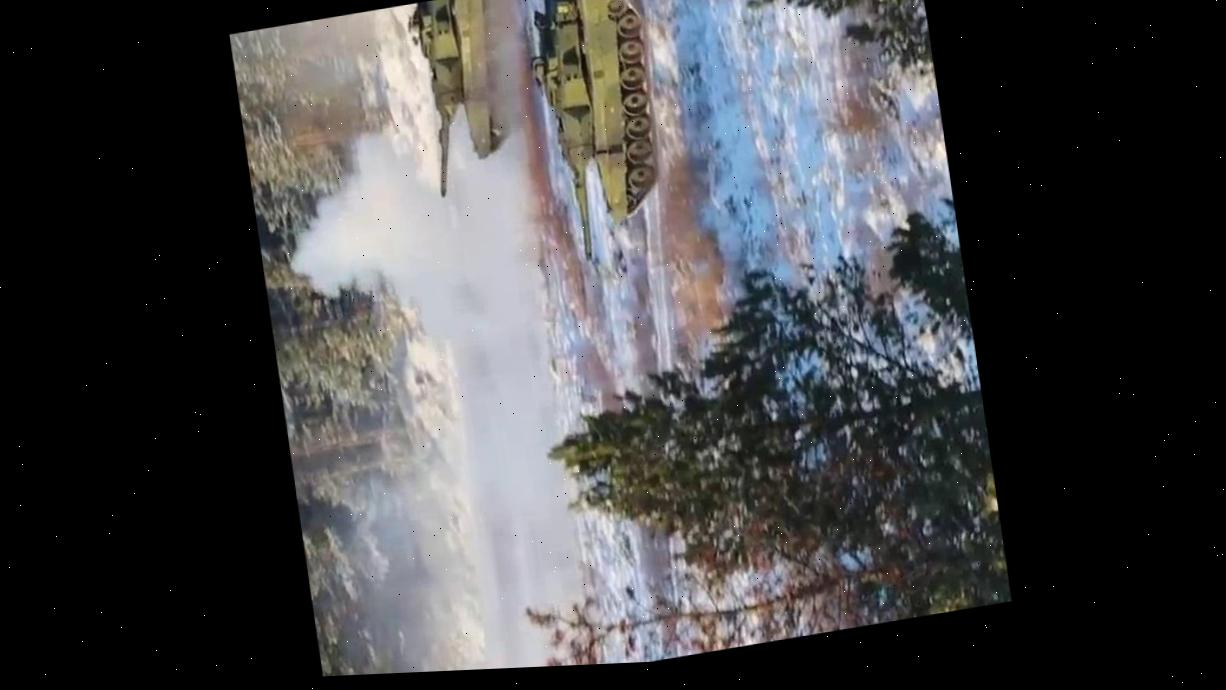tank: (518, 0, 676, 268), (404, 0, 535, 201)
